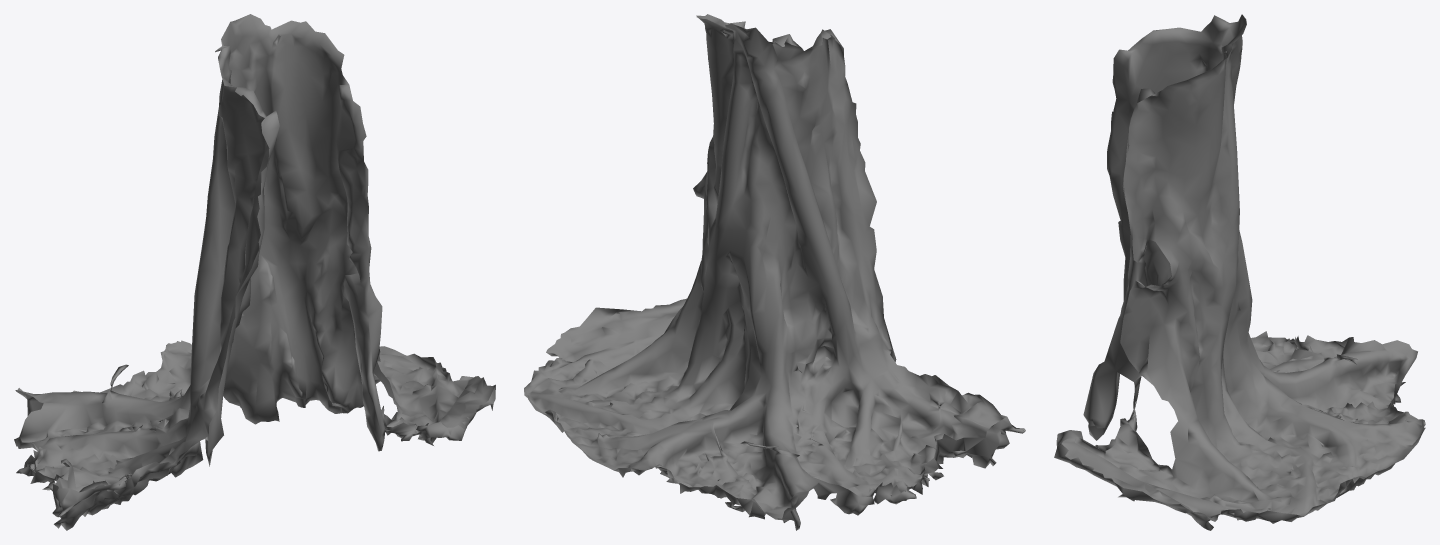
Rendered from buttress_trunk.gltf.
3 views of the same model, side by side, from view 1: azimuth 30°, elevation 25°; view 2: azimuth 150°, elevation 25°; view 3: azimuth 270°, elevation 25° (orthographic). The views are drawn at different scales.
Parts seen in each view (by area): view 1: buttress_trunk; view 2: buttress_trunk; view 3: buttress_trunk.
Boxes of the visible parts, x1,y1,x2,y2 form: buttress_trunk: (14, 14, 495, 530); buttress_trunk: (524, 14, 1025, 530); buttress_trunk: (1054, 14, 1425, 530).
Size of the model in its own units: 6.03 by 5.49 by 4.31.
1 material, 1 textured.
